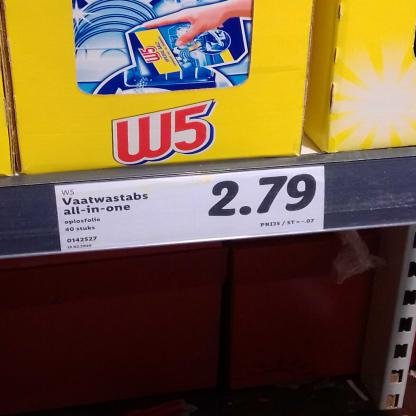prtg: (56, 166, 326, 253)
